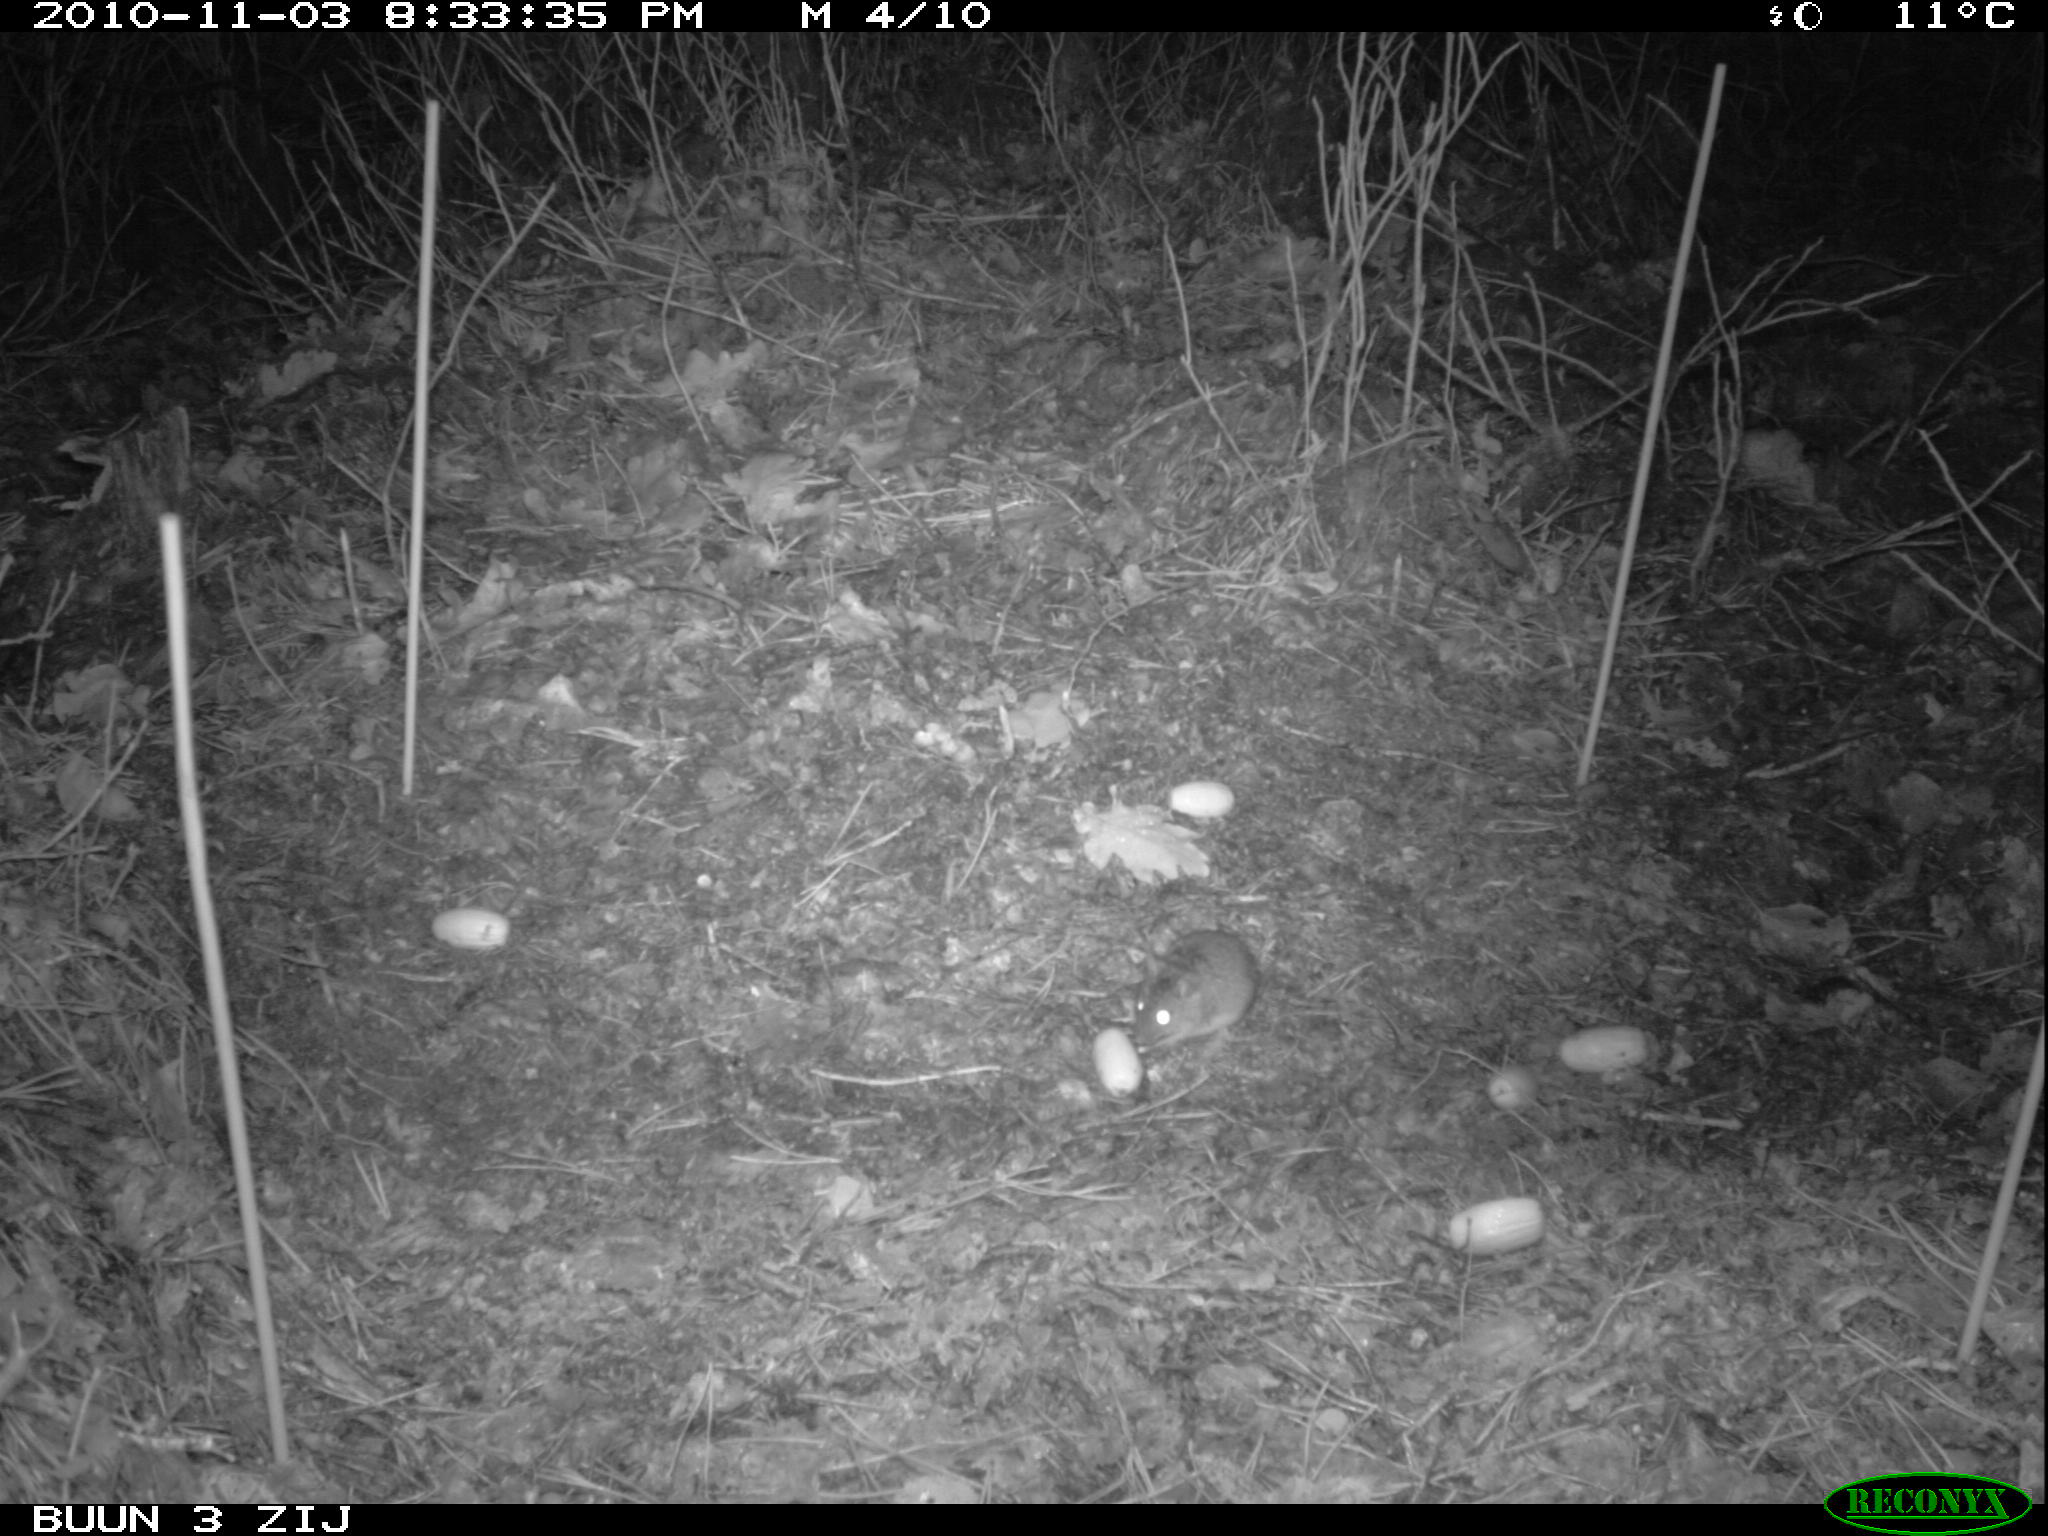Rodent: (1124, 925, 1280, 1065)
